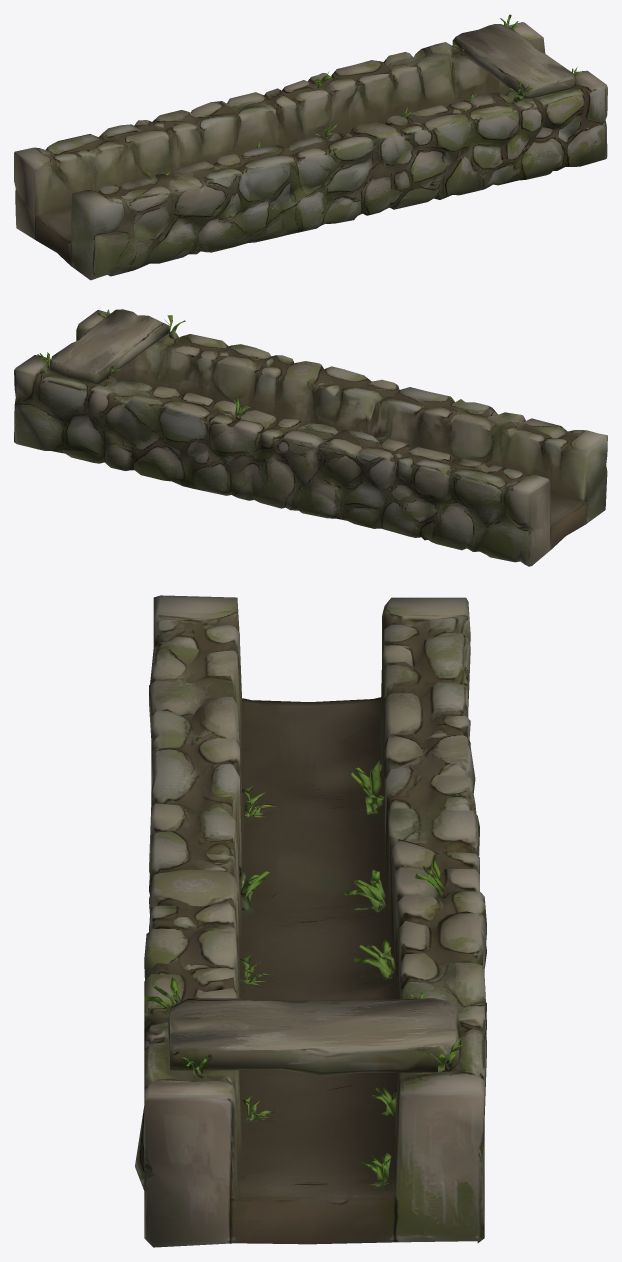
The model's file is stone_irrigation_channel.glb.
The picture shows the model from 3 angles, top to bottom: view 1: azimuth 30°, elevation 25°; view 2: azimuth 150°, elevation 25°; view 3: azimuth 270°, elevation 25°; orthographic projection. The views are drawn at different scales.
Visible parts, largest first — view 1: tripo_node_a1ab6114-feeb-4da7-95c7-62e2bb1af6c8; view 2: tripo_node_a1ab6114-feeb-4da7-95c7-62e2bb1af6c8; view 3: tripo_node_a1ab6114-feeb-4da7-95c7-62e2bb1af6c8.
Boxes of the visible parts, bbox=[...] form: tripo_node_a1ab6114-feeb-4da7-95c7-62e2bb1af6c8: bbox=[14, 14, 607, 280]; tripo_node_a1ab6114-feeb-4da7-95c7-62e2bb1af6c8: bbox=[14, 309, 607, 566]; tripo_node_a1ab6114-feeb-4da7-95c7-62e2bb1af6c8: bbox=[135, 595, 486, 1247].
Size of the model in its own units: 0.998 by 0.1738 by 0.2949.
1 material, 1 textured.
